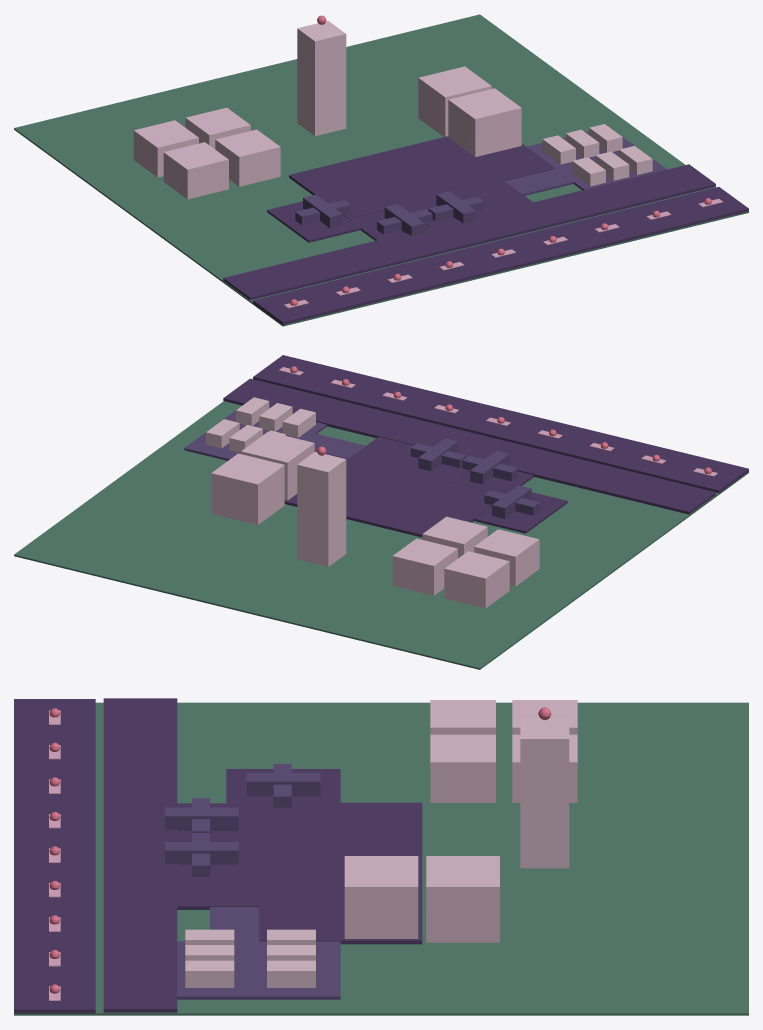
File: stage_18.glb
3 renders of one model, top to bottom at view 1: azimuth 30°, elevation 25°; view 2: azimuth 150°, elevation 25°; view 3: azimuth 270°, elevation 25°, orthographic. The views are drawn at different scales.
Parts seen in each view (by area): view 1: geometry_0; view 2: geometry_0; view 3: geometry_0.
Part boxes in pixels (x1,y1,x2,y2): geometry_0: (14,14,748,326); geometry_0: (14,355,748,669); geometry_0: (14,698,748,1015).
Bounding box in the file's own units: 9 × 2.06 × 9.
